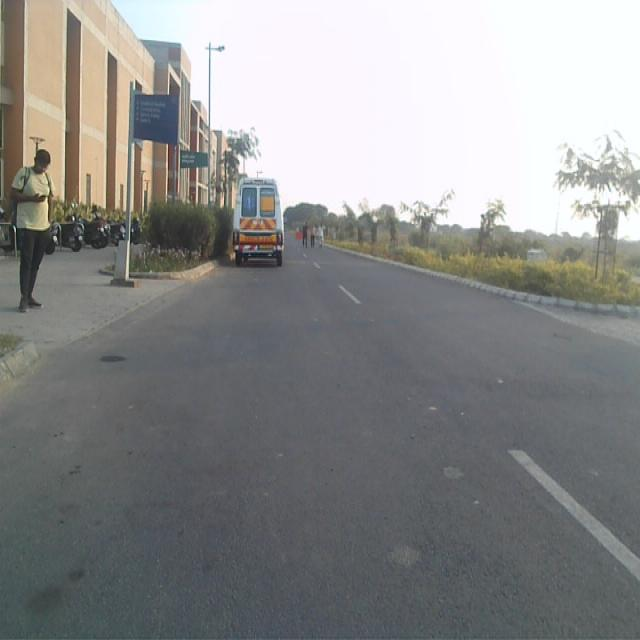lane: (0, 267, 640, 640)
